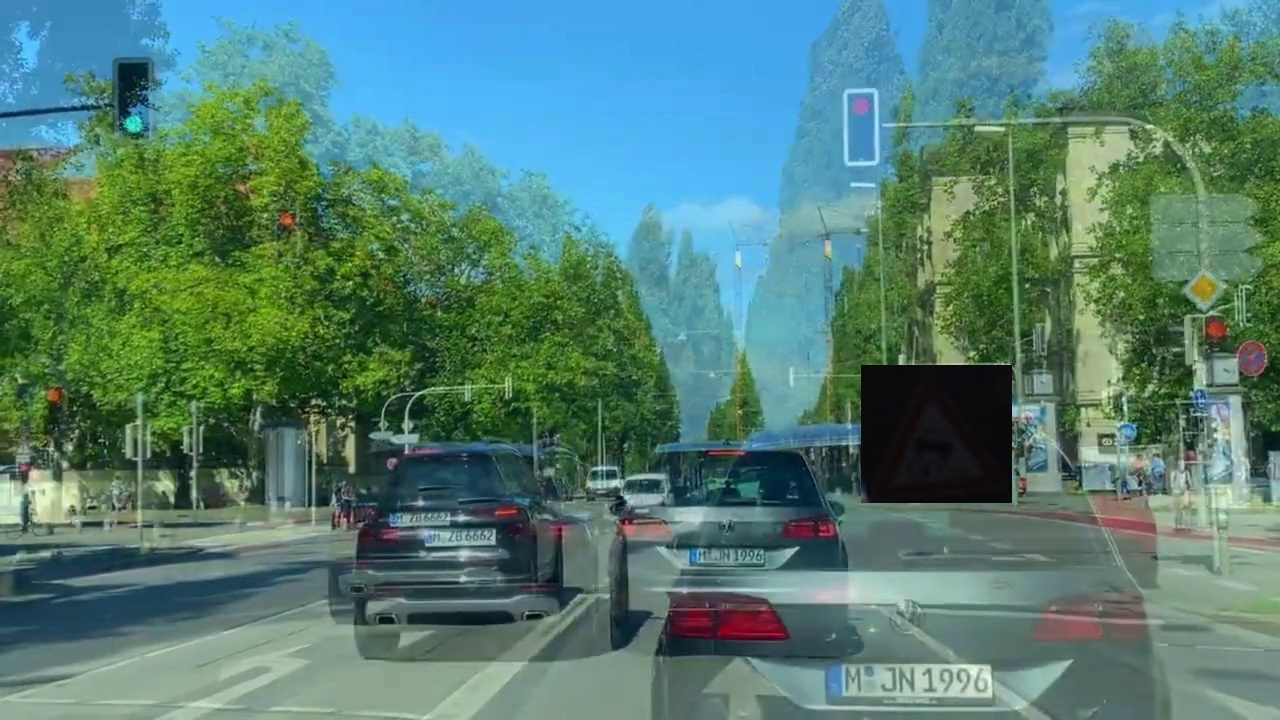Slippery: (861, 365, 1012, 503)
